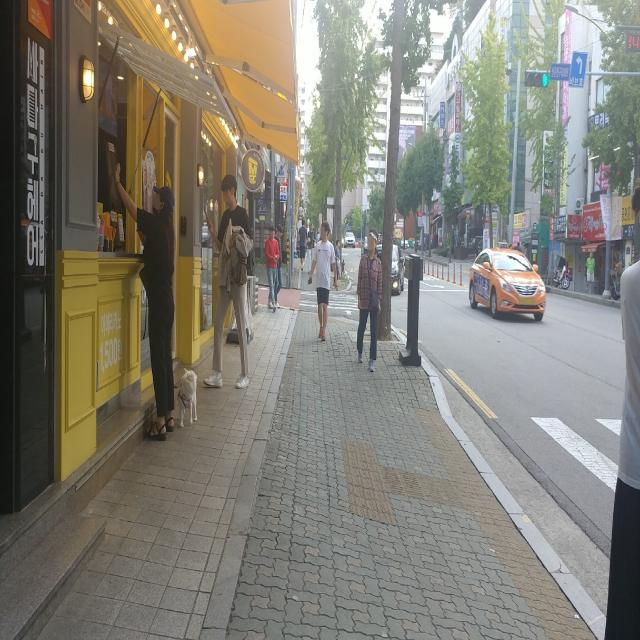횡단보도: (299, 290, 360, 316)
